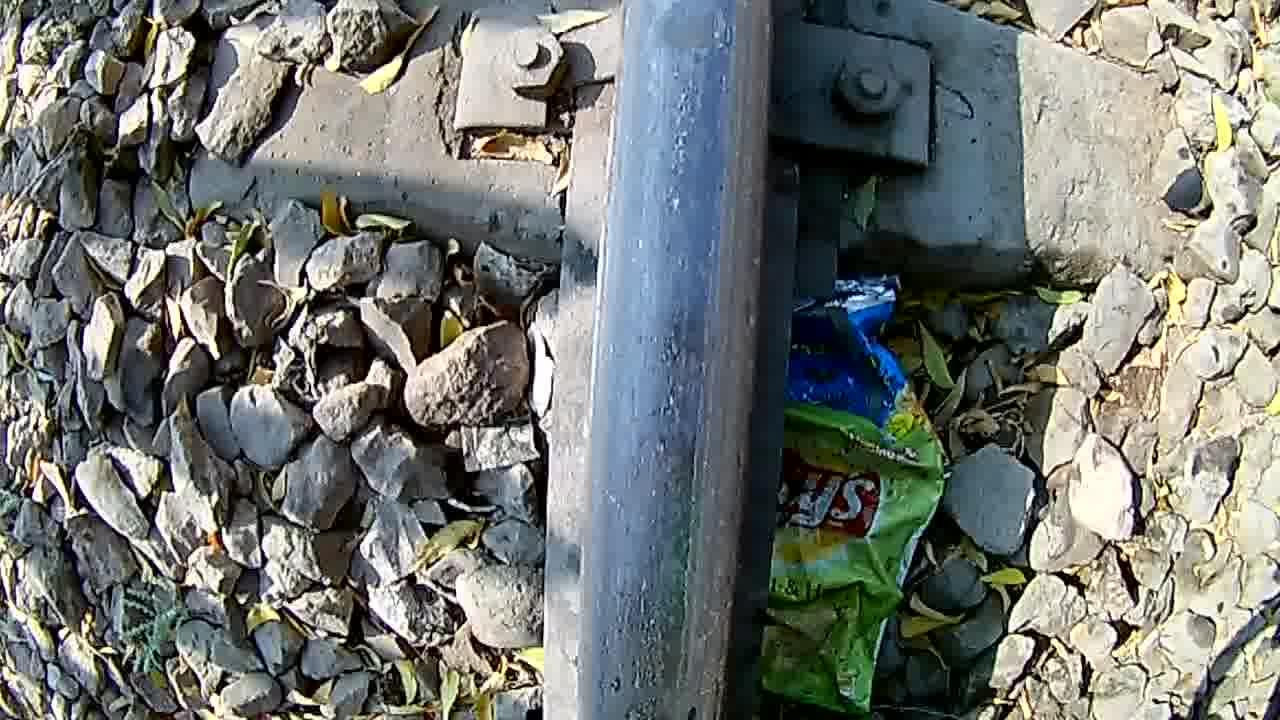bolt_missing: (630, 0, 736, 83)
